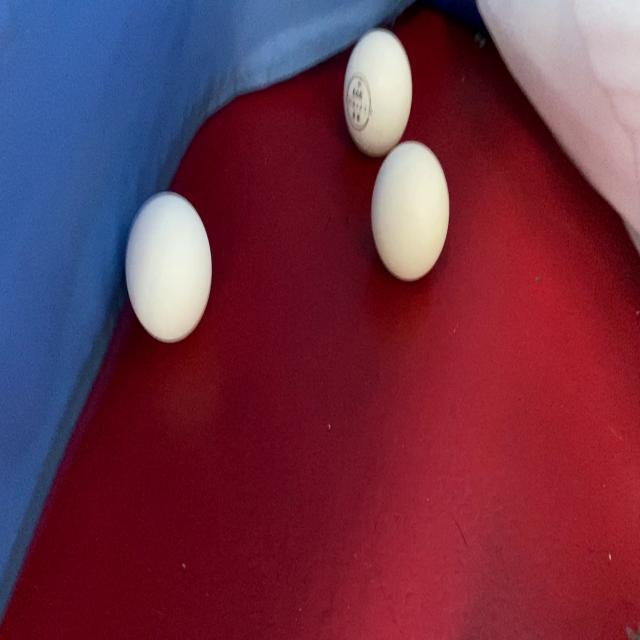ping-pong-ball: (123, 188, 214, 348), (369, 135, 452, 283), (341, 23, 414, 159)
